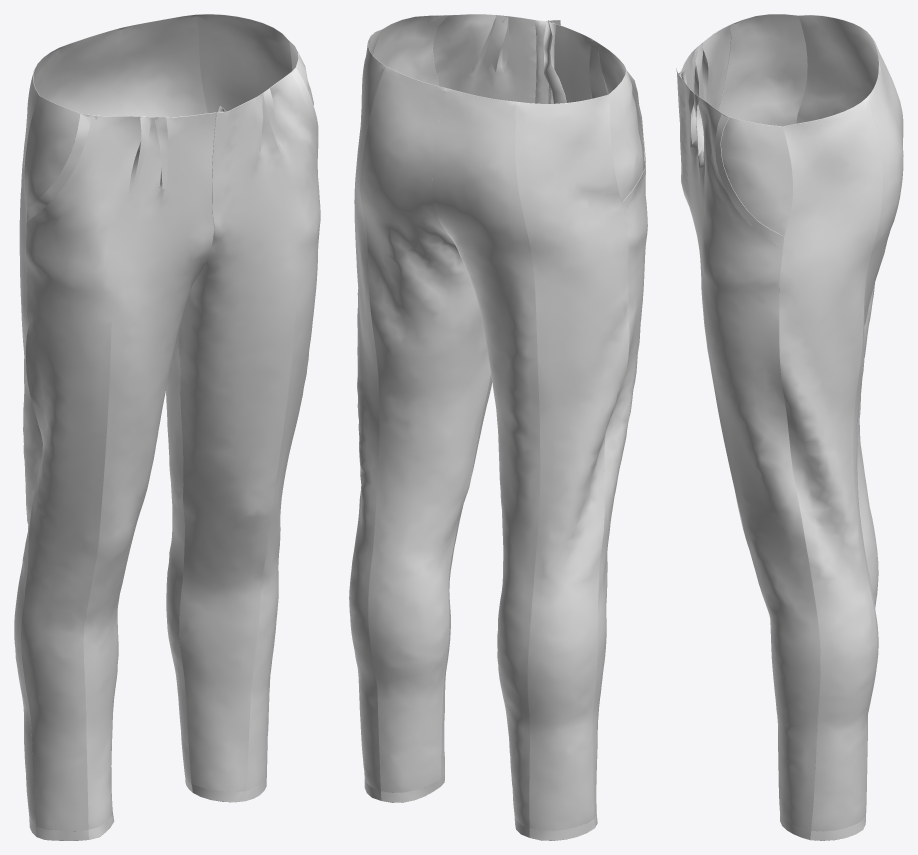
The model's file is two_pleat.glb.
3 renders of one model, left to right at view 1: azimuth 30°, elevation 25°; view 2: azimuth 150°, elevation 25°; view 3: azimuth 270°, elevation 25°, orthographic. The views are drawn at different scales.
Visible parts, largest first — view 1: Pattern_889322_Node, Pattern_889325_Node, Pattern_889317_Node, Pattern_889309_Node, Pattern_1021232_Node, Pattern_889323_Node, Pattern_889319_Node, Pattern_889321_Node; view 2: Pattern_889309_Node, Pattern_889317_Node, Pattern_889322_Node, Pattern_889325_Node, Pattern_1021233_Node, Pattern_1021232_Node, Pattern_2661109_Node, Pattern_889310_Node, Pattern_889315_Node, Pattern_2703632_Node; view 3: Pattern_889317_Node, Pattern_889325_Node, Pattern_889309_Node, Pattern_1021232_Node, Pattern_1021233_Node, Pattern_889322_Node, Pattern_889324_Node, Pattern_889315_Node.
Boxes of the visible parts, x1=… form: Pattern_889322_Node: x1=21, y1=112, x2=215, y2=831; Pattern_889325_Node: x1=178, y1=73, x2=320, y2=791; Pattern_889317_Node: x1=112, y1=14, x2=292, y2=782; Pattern_889309_Node: x1=14, y1=27, x2=122, y2=826; Pattern_1021232_Node: x1=24, y1=95, x2=98, y2=253; Pattern_889323_Node: x1=26, y1=114, x2=92, y2=222; Pattern_889319_Node: x1=36, y1=812, x2=114, y2=840; Pattern_889321_Node: x1=191, y1=777, x2=266, y2=802; Pattern_889309_Node: x1=432, y1=88, x2=629, y2=830; Pattern_889317_Node: x1=349, y1=29, x2=490, y2=792; Pattern_889322_Node: x1=554, y1=24, x2=647, y2=818; Pattern_889325_Node: x1=433, y1=14, x2=560, y2=777; Pattern_1021233_Node: x1=373, y1=15, x2=447, y2=85; Pattern_1021232_Node: x1=609, y1=62, x2=643, y2=243; Pattern_2661109_Node: x1=543, y1=20, x2=566, y2=103; Pattern_889310_Node: x1=514, y1=815, x2=594, y2=840; Pattern_889315_Node: x1=364, y1=778, x2=441, y2=802; Pattern_2703632_Node: x1=534, y1=20, x2=546, y2=103; Pattern_889317_Node: x1=779, y1=67, x2=903, y2=831; Pattern_889325_Node: x1=676, y1=66, x2=820, y2=830; Pattern_889309_Node: x1=796, y1=15, x2=903, y2=607; Pattern_1021232_Node: x1=718, y1=14, x2=807, y2=126; Pattern_1021233_Node: x1=720, y1=112, x2=792, y2=270; Pattern_889322_Node: x1=682, y1=23, x2=732, y2=110; Pattern_889324_Node: x1=715, y1=114, x2=783, y2=249; Pattern_889315_Node: x1=810, y1=815, x2=865, y2=840.
Size of the model in its own units: 37 by 96.05 by 27.23.
56 materials, 4 textured.
